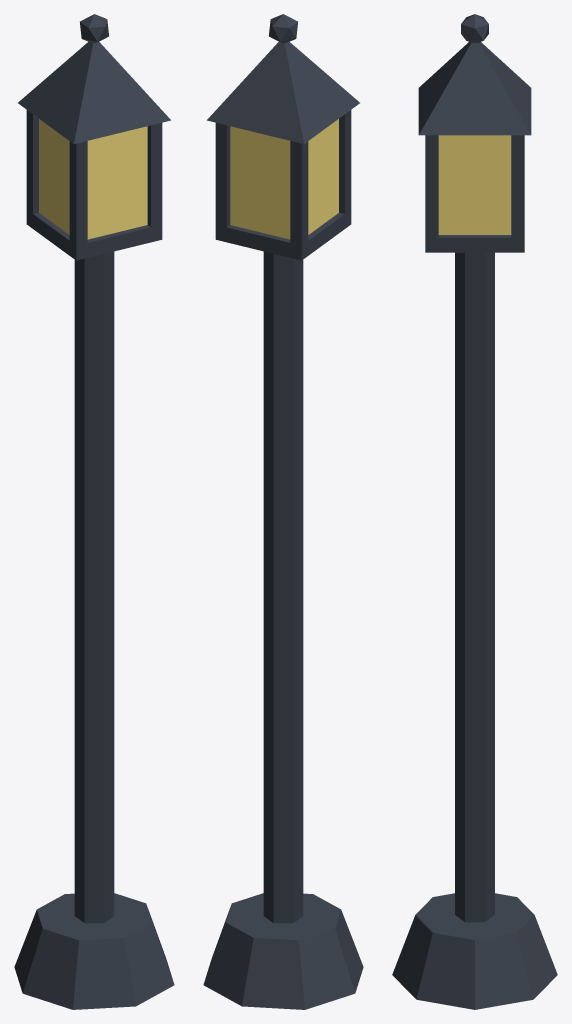
The model's file is LampPost.fbx.
3 renders of one model, left to right at view 1: azimuth 30°, elevation 25°; view 2: azimuth 150°, elevation 25°; view 3: azimuth 270°, elevation 25°, orthographic.
Visible parts, largest first — view 1: Lamp Post; view 2: Lamp Post; view 3: Lamp Post.
Boxes of the visible parts, bbox=[...] form: Lamp Post: bbox=[14, 14, 174, 1009]; Lamp Post: bbox=[203, 14, 363, 1009]; Lamp Post: bbox=[392, 14, 557, 1009].
Bounding box in the file's own units: 1.5 × 9.6 × 1.5.
Materials: 1 (1 with a texture image).
